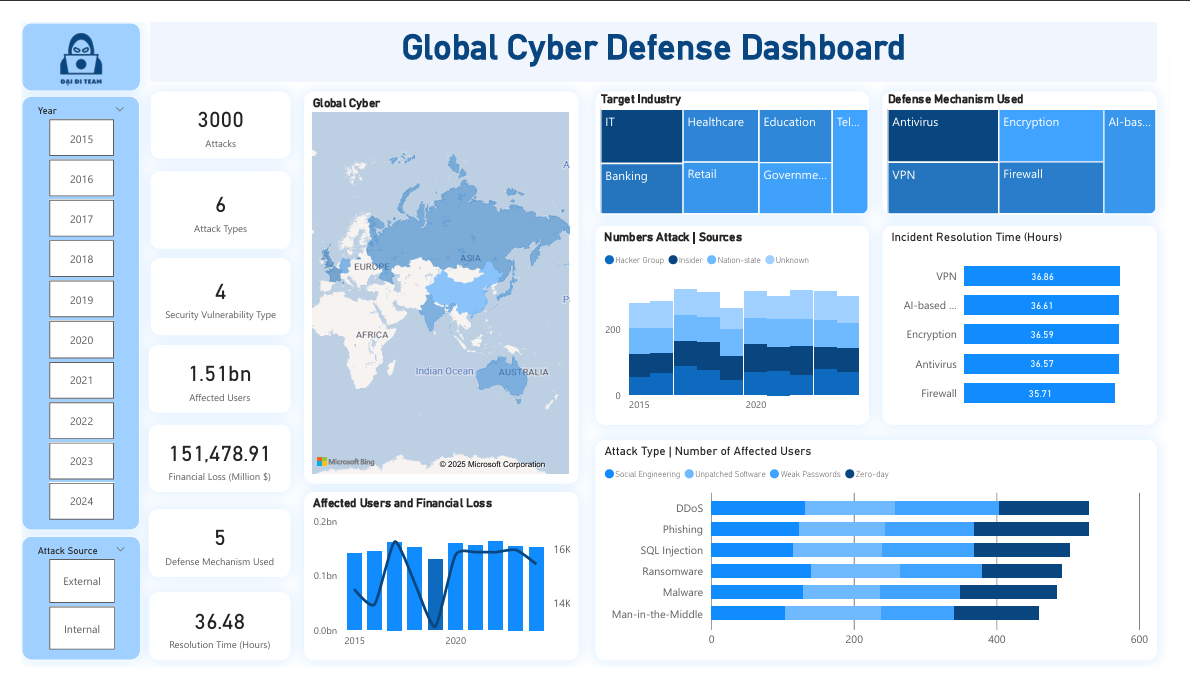

What the dashboard file says about the page in this screenshot:
{"tool":"powerbi","page":{"name":"Page 1","canvas":[1280,720],"ordinal":0},"visuals":[{"type":"shape","box":[0,0,132.6,76.7],"z":0,"group":"g1"},{"type":"slicer","fields":{"Values":["Global_Cybersecurity_Threats_20.Year"]},"box":[0,81.8,132.4,485.3],"z":0},{"type":"image","box":[13,0,107,91],"z":1000,"group":"g1"},{"type":"filledMap","title":"Global Cyber","fields":{"Category":["Global_Cybersecurity_Threats_20.Country"]},"box":[315.1,76.7,305.8,438.4],"z":1000},{"type":"card","fields":{"Values":["CountNonNull(Global Cyber.Attack Type)"]},"box":[144.2,76.7,155.8,75.6],"z":2000},{"type":"card","fields":{"Values":["Global Cyber.Total Affected Users"]},"box":[141.9,360.5,158.1,75.6],"z":3000},{"type":"card","fields":{"Values":["Sum(Global Cyber.Financial Loss (in Million $))"]},"box":[141.9,448.8,158.1,75.6],"z":4000},{"type":"card","fields":{"Values":["Avg(Global Cyber.Incident Resolution Time (in Hours))"]},"box":[141.9,636,158.1,75.6],"z":5000},{"type":"card","fields":{"Values":["Count(Global Cyber.Attack Type)"]},"box":[144.2,166.3,155.8,87.2],"z":6000},{"type":"lineClusteredColumnComboChart","title":"Affected Users and Financial Loss","fields":{"Category":["Global Cyber.Year"],"Y2":["Sum(Global Cyber.Financial Loss (in Million $))"],"Y":["Sum(Global Cyber.Number of Affected Users)"]},"box":[315.1,524.4,305.8,187.2],"z":7000},{"type":"barChart","title":"Attack Type | Number of Affected Users ","fields":{"Category":["Global Cyber.Attack Type"],"Series":["Global Cyber.Security Vulnerability Type"],"Y":["CountNonNull(Global Cyber.Attack Type)"]},"box":[639.5,466.3,626.7,245.3],"z":8000},{"type":"treemap","title":"Target Industry","fields":{"Group":["Global Cyber.Target Industry"],"Values":["CountNonNull(Global Cyber.Attack Type)"]},"box":[639.5,76.7,305.8,138.4],"z":9000},{"type":"columnChart","title":"Numbers Attack | Sources","fields":{"Category":["Global Cyber.Year"],"Y":["CountNonNull(Global Cyber.Attack Type)"],"Series":["Global Cyber.Attack Source"]},"box":[639.5,226.7,305.8,222.1],"z":10000},{"type":"slicer","fields":{"Values":["Global Cyber.AttackSourceGroup"]},"box":[0,573.3,132.6,138.4],"z":11000},{"type":"treemap","title":"Defense Mechanism Used","fields":{"Group":["Global Cyber.Defense Mechanism Used"],"Values":["CountNonNull(Global Cyber.Defense Mechanism Used)"]},"box":[960.5,76.7,305.8,138.4],"z":12000},{"type":"clusteredBarChart","title":" Incident Resolution Time (Hours)","fields":{"Y":["Avg(Global Cyber.Incident Resolution Time (in Hours))"],"Category":["Global Cyber.Defense Mechanism Used"]},"box":[960.5,226.7,305.8,222.1],"z":13000},{"type":"card","fields":{"Values":["Count(Global Cyber.Defense Mechanism Used)"]},"box":[141.9,543,158.1,75.6],"z":14000},{"type":"card","fields":{"Values":["Count(Global Cyber.Security Vulnerability Type)"]},"box":[144.2,262.8,155.8,86],"z":15000},{"type":"group","id":"g1","title":"Group 1","box":[0,0,132.6,91],"z":16000},{"type":"textbox","box":[143.8,0,1122.5,66.2],"z":17000}]}

Visuals, with their boxes in screenshot pixels (x1, y1, x2, y2), scaled from the page's 1280x720 canvas onto the 1190x687 screenshot:
shape: {"x1": 0, "y1": 0, "x2": 123, "y2": 73}
slicer - Global_Cybersecurity_Threats_20.Year: {"x1": 0, "y1": 78, "x2": 123, "y2": 541}
image: {"x1": 12, "y1": 0, "x2": 112, "y2": 87}
"Global Cyber" filledMap: {"x1": 293, "y1": 73, "x2": 577, "y2": 491}
card - CountNonNull(Global Cyber.Attack Type): {"x1": 134, "y1": 73, "x2": 279, "y2": 145}
card - Global Cyber.Total Affected Users: {"x1": 132, "y1": 344, "x2": 279, "y2": 416}
card - Sum(Global Cyber.Financial Loss (in Million $)): {"x1": 132, "y1": 428, "x2": 279, "y2": 500}
card - Avg(Global Cyber.Incident Resolution Time (in Hours)): {"x1": 132, "y1": 607, "x2": 279, "y2": 679}
card - Count(Global Cyber.Attack Type): {"x1": 134, "y1": 159, "x2": 279, "y2": 242}
"Affected Users and Financial Loss" lineClusteredColumnComboChart: {"x1": 293, "y1": 500, "x2": 577, "y2": 679}
"Attack Type | Number of Affected Users " barChart: {"x1": 595, "y1": 445, "x2": 1177, "y2": 679}
"Target Industry" treemap: {"x1": 595, "y1": 73, "x2": 879, "y2": 205}
"Numbers Attack | Sources" columnChart: {"x1": 595, "y1": 216, "x2": 879, "y2": 428}
slicer - Global Cyber.AttackSourceGroup: {"x1": 0, "y1": 547, "x2": 123, "y2": 679}
"Defense Mechanism Used" treemap: {"x1": 893, "y1": 73, "x2": 1177, "y2": 205}
" Incident Resolution Time (Hours)" clusteredBarChart: {"x1": 893, "y1": 216, "x2": 1177, "y2": 428}
card - Count(Global Cyber.Defense Mechanism Used): {"x1": 132, "y1": 518, "x2": 279, "y2": 590}
card - Count(Global Cyber.Security Vulnerability Type): {"x1": 134, "y1": 251, "x2": 279, "y2": 333}
"Group 1" group: {"x1": 0, "y1": 0, "x2": 123, "y2": 87}
textbox: {"x1": 134, "y1": 0, "x2": 1177, "y2": 63}
